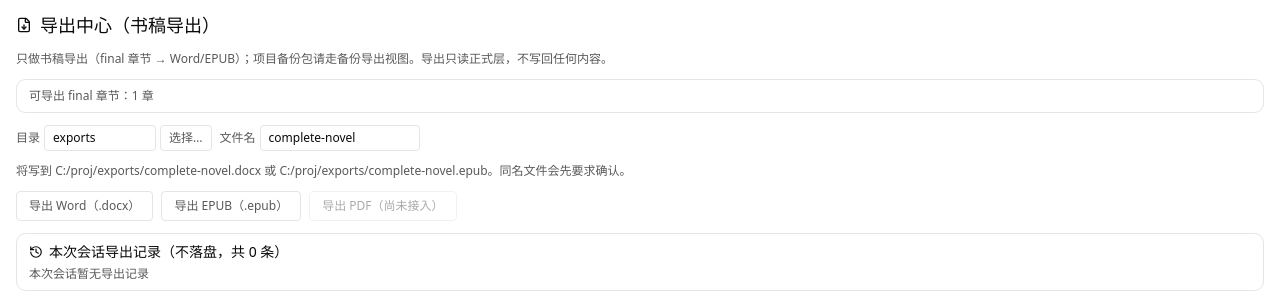
it: ExportCenterView › 导出成功 → 会话记录成功行
Expected: the text "1" is shown, [132,87,139,104]
What coordinates should you click on to do the following:
click the button with test id "export-docx-button"
I would click on:
 (85, 206)
Its box is [16,191,153,221].
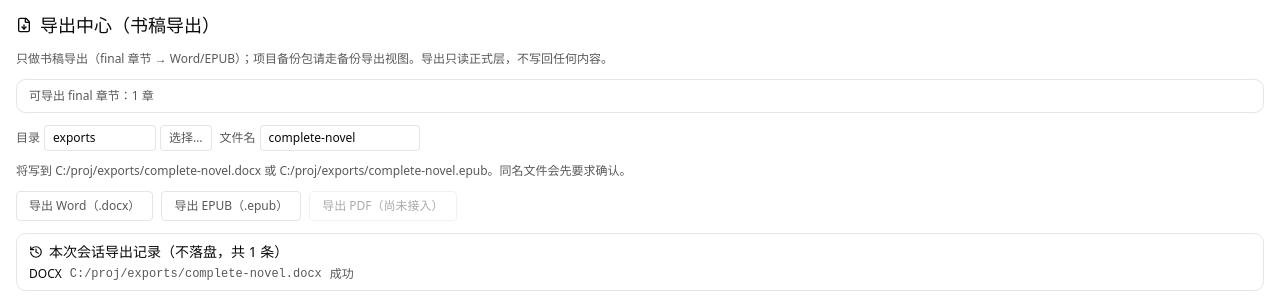
Expected: the list with test id "export-history-list" is shown, [29,265,354,282]
Expected: the list item with test id "export-record-success" shows "DOCX", [29,265,62,282]
Expected: the list item with test id "export-record-success" shows "complete-novel.docx", [70,267,322,281]
